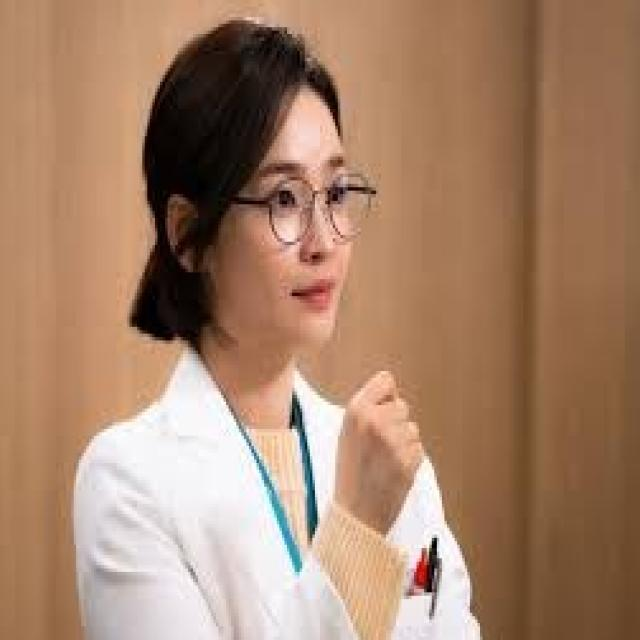Glasses: (221, 164, 381, 248)
